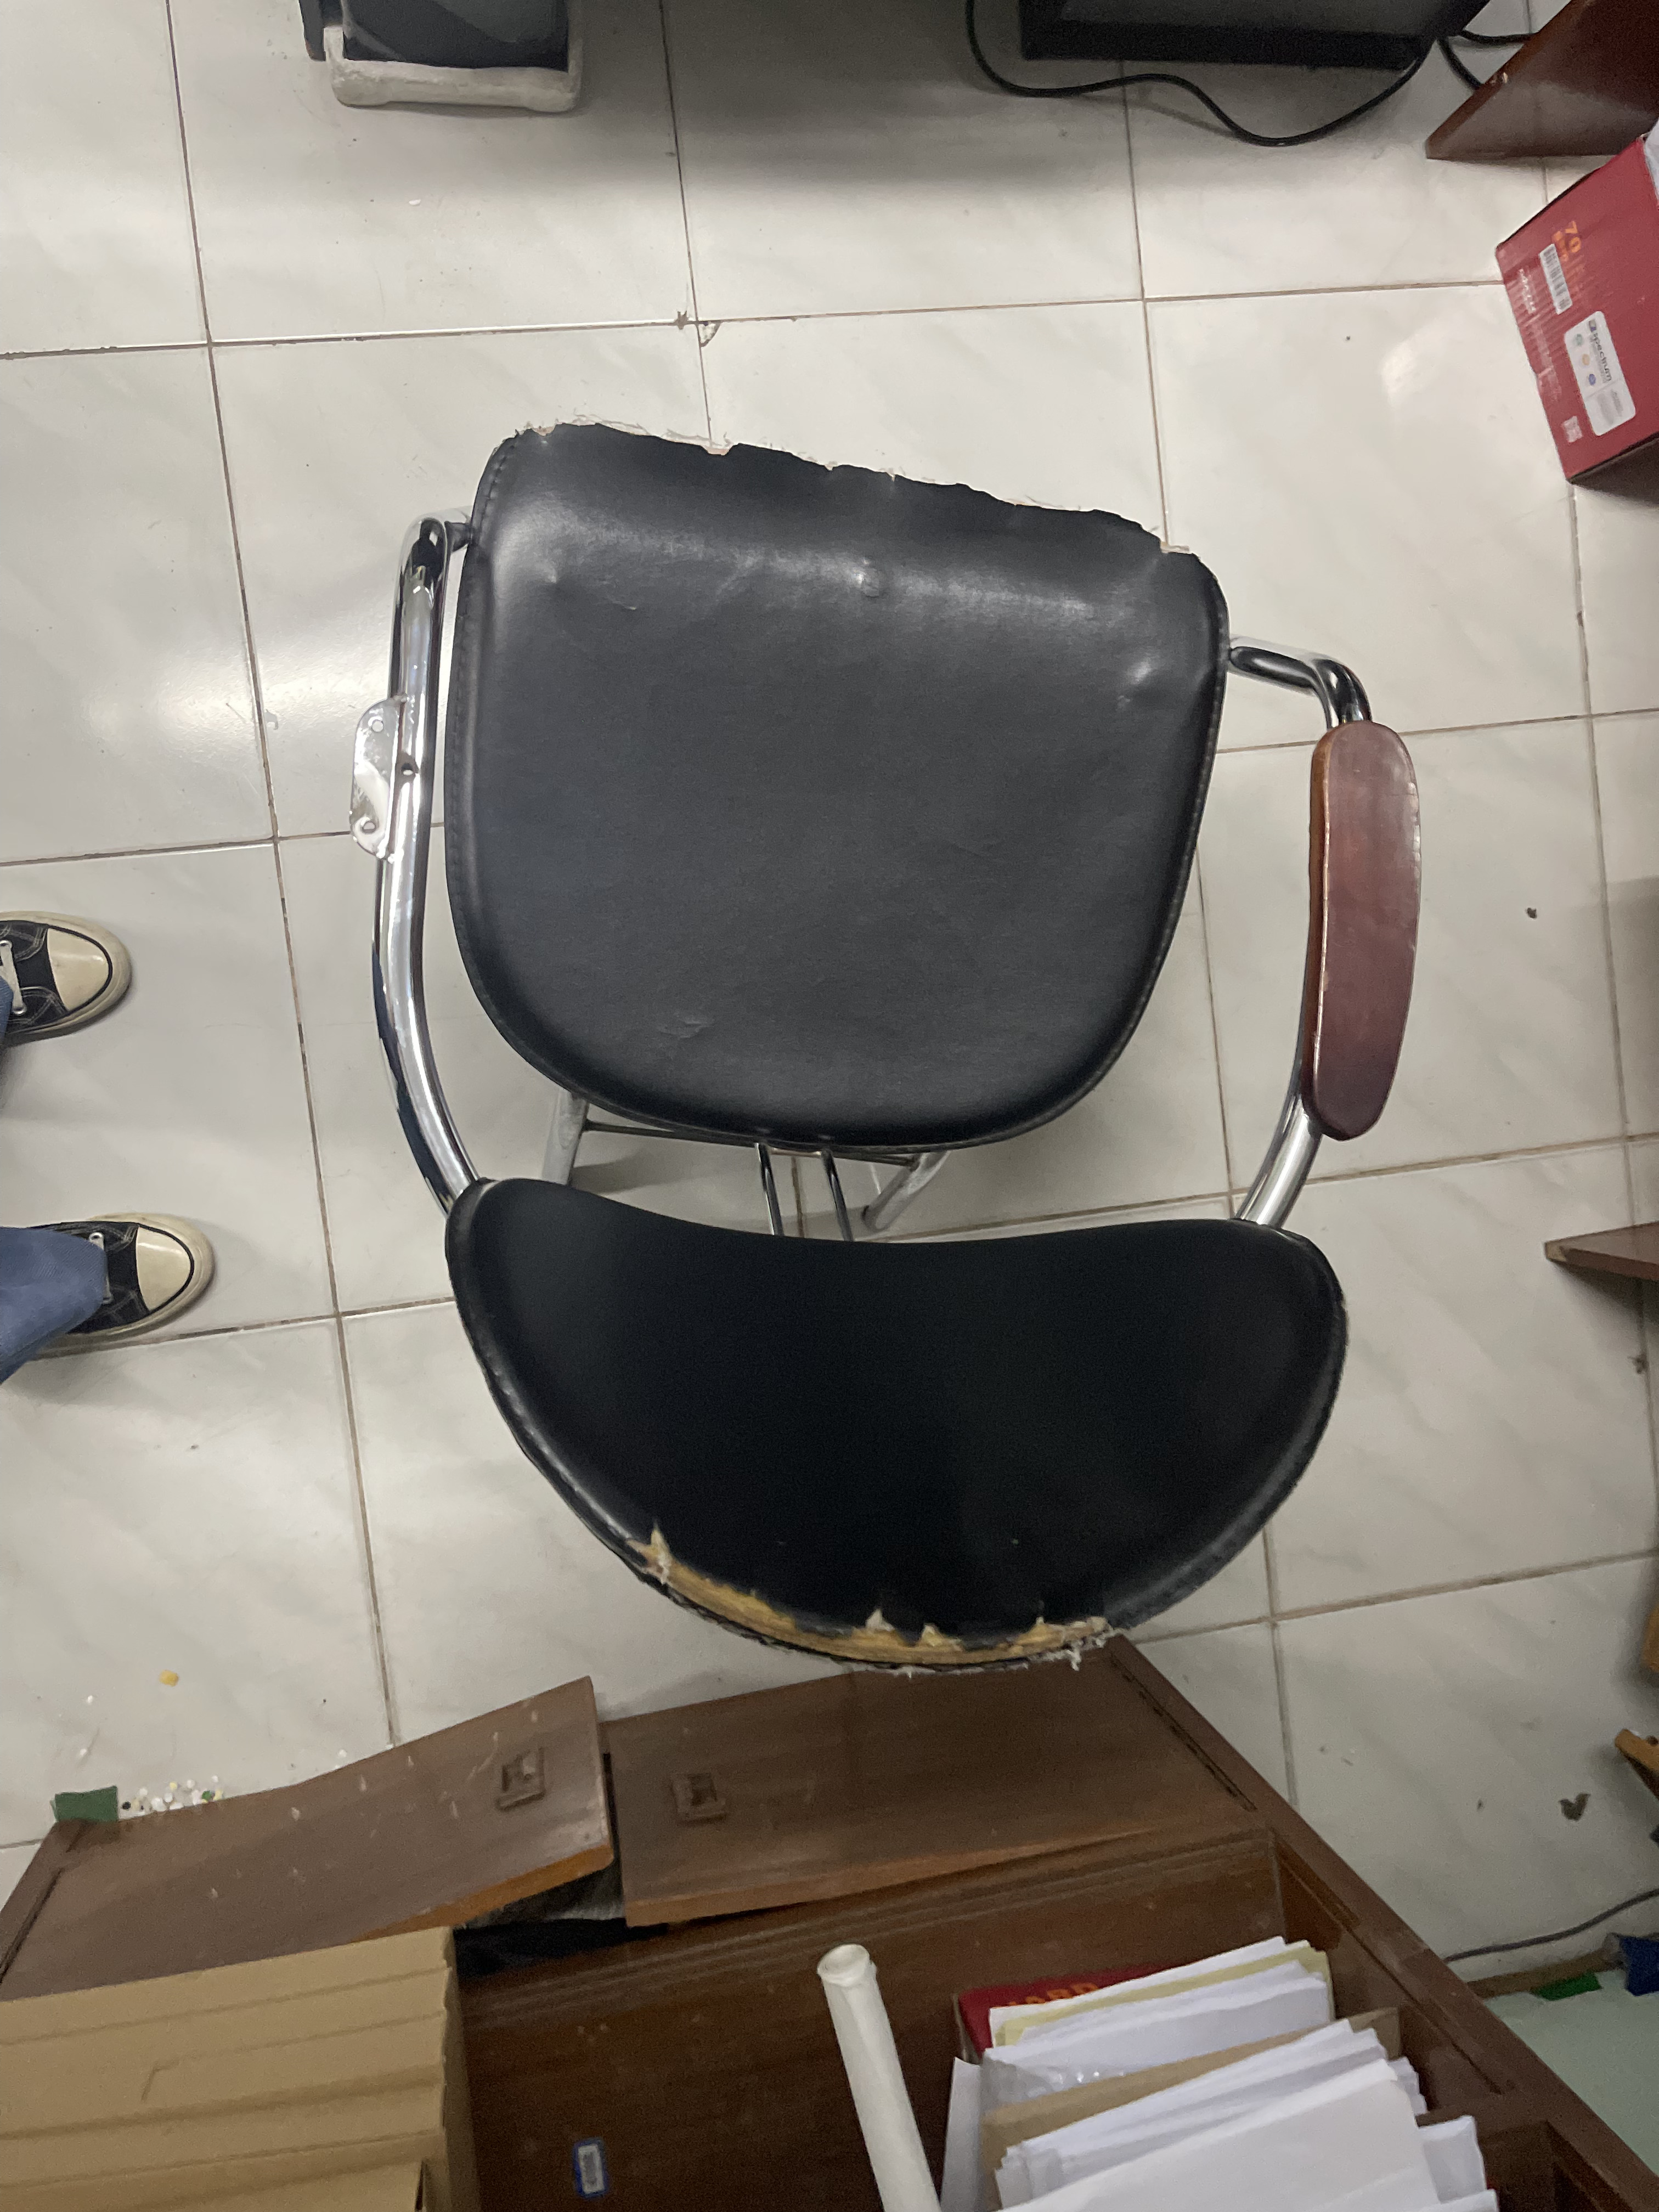chair1: (352, 408, 1420, 1707)
